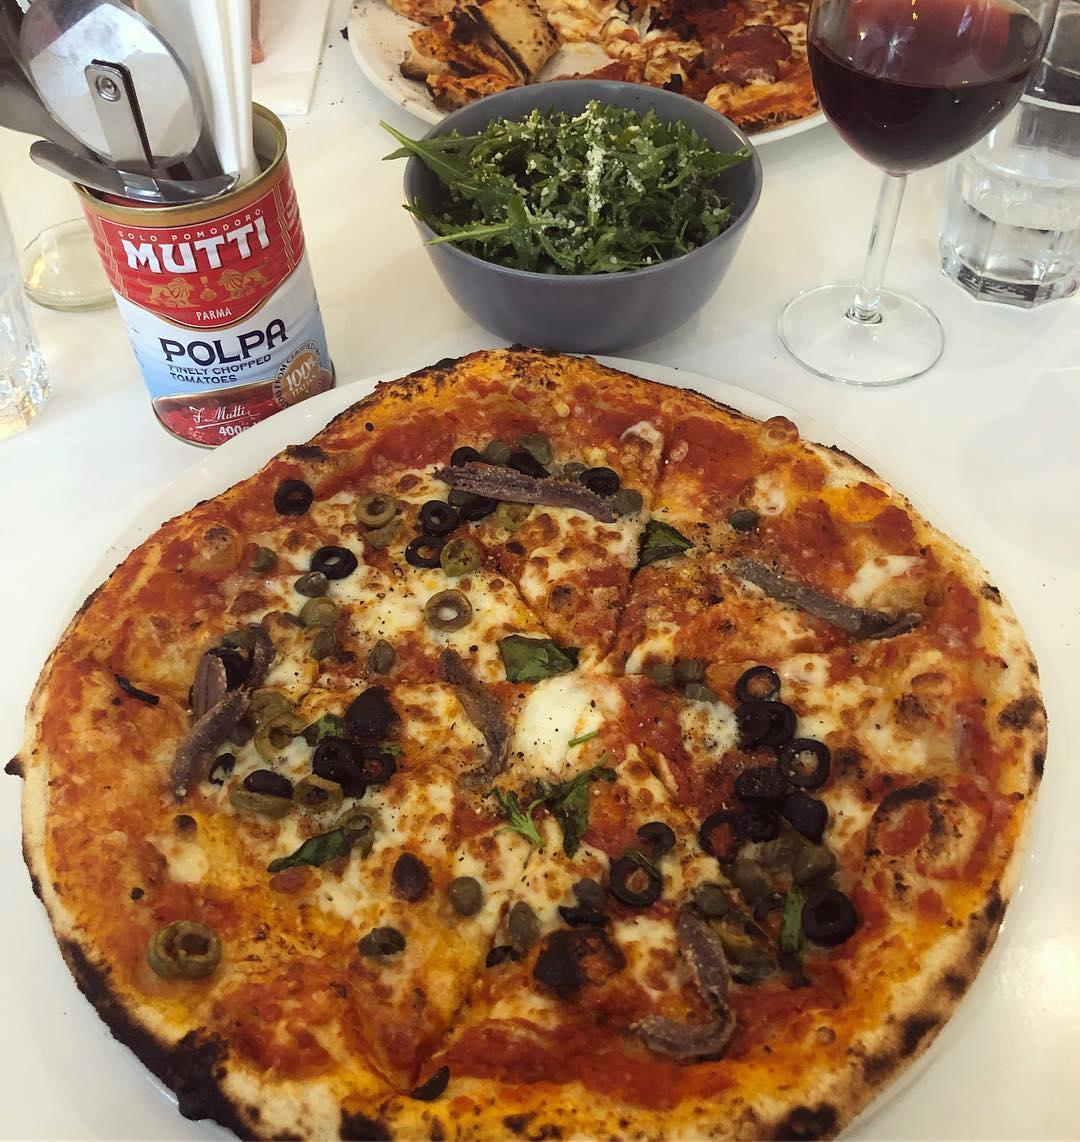Basil: (733, 548, 914, 624), (498, 776, 609, 862), (480, 623, 578, 684), (623, 513, 701, 562)
Cheese: (523, 698, 605, 760)
Olives: (713, 883, 819, 987), (528, 893, 607, 985), (773, 866, 863, 946), (323, 693, 391, 779), (736, 770, 815, 843), (446, 435, 557, 480), (201, 623, 273, 690), (613, 820, 675, 896), (741, 648, 793, 738), (298, 523, 365, 589), (160, 923, 238, 977), (405, 498, 463, 564), (300, 803, 384, 845), (238, 760, 303, 812), (420, 588, 477, 639), (343, 483, 401, 531), (396, 846, 437, 902), (581, 458, 627, 505), (448, 868, 487, 923), (412, 1060, 456, 1104), (355, 928, 411, 960), (798, 728, 827, 787), (698, 808, 741, 847), (479, 939, 526, 973), (503, 500, 534, 537), (275, 483, 312, 511)
Pizza: (38, 353, 1037, 1142), (360, 0, 867, 129)
